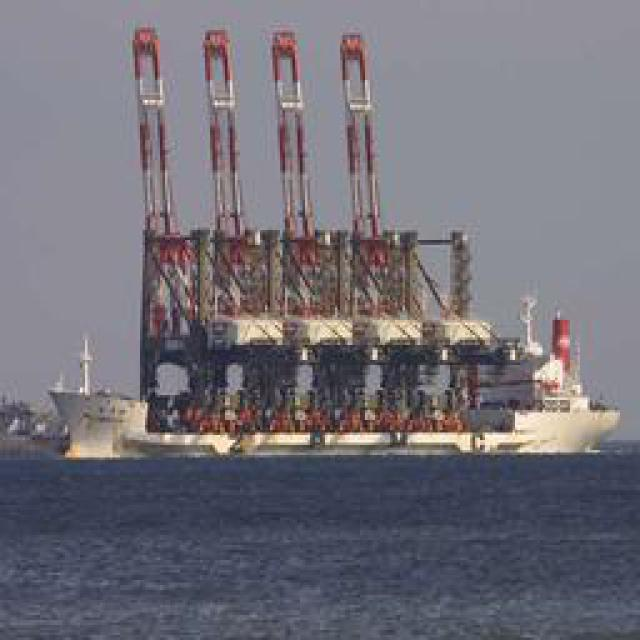Ship: (117, 293, 617, 461)
